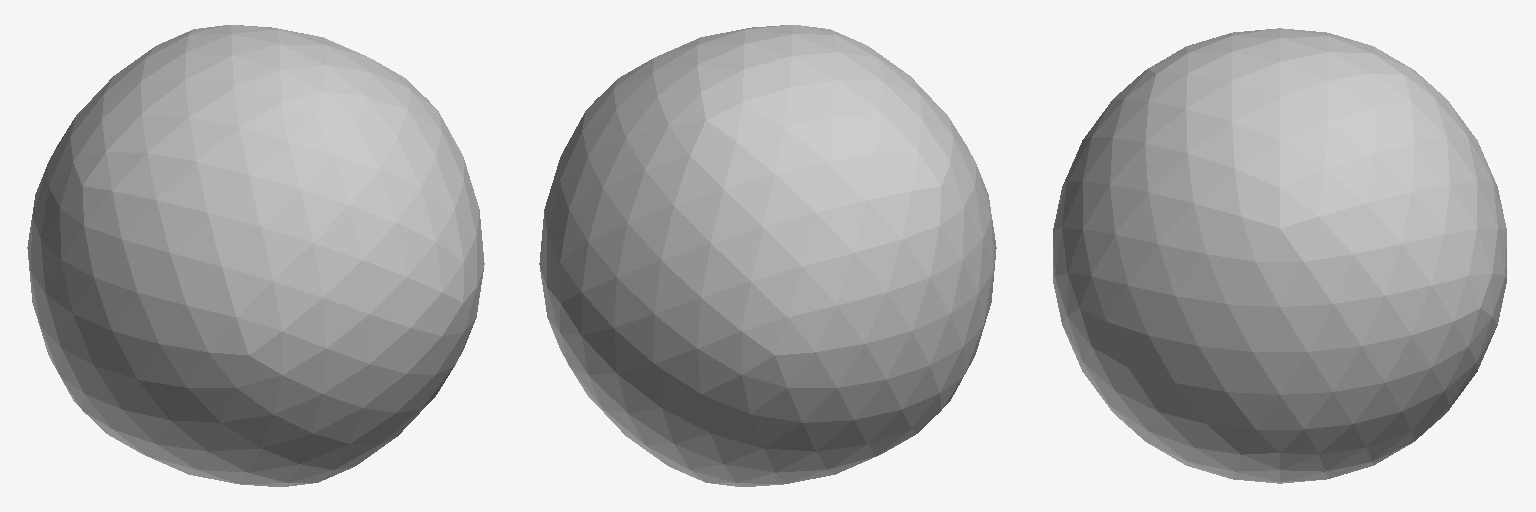
The model's file is sphere_smoothed_40.obj.
3 views of the same model, side by side, from view 1: azimuth 30°, elevation 25°; view 2: azimuth 150°, elevation 25°; view 3: azimuth 270°, elevation 25° (orthographic).
Bounding box in the file's own units: 1.51 × 1.51 × 1.51.